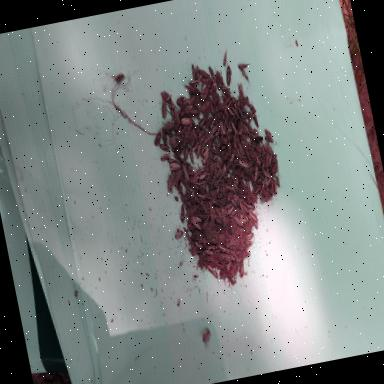pbw: (178, 201, 188, 223), (165, 172, 175, 194), (190, 214, 202, 231), (160, 100, 170, 120), (152, 130, 164, 146), (181, 162, 190, 183), (220, 49, 231, 66), (174, 90, 187, 104), (240, 66, 250, 84), (218, 242, 230, 255), (194, 144, 204, 159), (214, 72, 222, 90), (190, 62, 198, 80), (252, 110, 260, 128), (174, 108, 182, 126), (188, 146, 196, 164), (188, 79, 204, 88), (238, 260, 246, 278), (262, 142, 272, 156), (264, 128, 273, 143), (201, 154, 212, 166), (190, 141, 201, 153), (198, 143, 208, 156), (248, 209, 258, 222), (240, 94, 250, 107), (184, 226, 192, 242), (182, 145, 190, 161), (210, 204, 218, 220), (238, 142, 245, 160), (238, 158, 249, 169), (251, 142, 262, 153), (115, 72, 126, 83), (218, 135, 229, 146), (230, 121, 238, 136), (200, 86, 210, 98), (160, 142, 172, 152), (184, 83, 196, 93), (174, 230, 186, 240), (204, 248, 216, 258), (262, 168, 272, 180), (234, 216, 244, 228), (246, 100, 256, 112), (238, 62, 253, 70), (262, 190, 272, 202), (194, 63, 201, 80), (219, 119, 226, 136), (209, 65, 216, 81), (255, 152, 262, 168), (252, 166, 260, 180), (266, 142, 274, 156), (237, 82, 244, 98), (247, 110, 255, 124), (231, 132, 238, 148), (220, 162, 228, 176), (170, 162, 182, 171), (246, 191, 255, 203), (198, 116, 207, 128), (205, 187, 214, 199), (251, 216, 259, 229), (244, 178, 252, 191), (192, 191, 200, 204), (244, 125, 252, 138), (194, 238, 204, 248), (184, 104, 194, 114), (217, 70, 224, 84), (208, 82, 216, 94), (176, 125, 184, 137), (240, 138, 248, 150), (226, 261, 234, 273), (194, 168, 206, 176), (160, 154, 172, 162), (264, 152, 270, 168), (180, 116, 192, 124), (166, 156, 178, 164), (230, 248, 238, 260), (208, 166, 216, 178), (208, 205, 214, 221), (247, 121, 254, 134), (190, 175, 200, 184), (229, 198, 238, 208), (228, 152, 236, 163), (238, 198, 244, 212), (259, 180, 266, 192), (231, 146, 238, 158), (231, 102, 238, 114), (271, 164, 280, 173), (222, 92, 230, 102), (225, 184, 235, 192), (198, 190, 206, 200), (227, 106, 235, 116), (227, 206, 235, 216), (246, 232, 256, 240), (238, 126, 246, 136), (209, 152, 217, 162), (198, 68, 208, 76), (188, 94, 196, 104), (240, 101, 246, 114), (207, 243, 218, 250), (216, 111, 222, 123), (211, 146, 219, 155), (254, 186, 262, 195), (228, 140, 234, 152), (194, 94, 202, 103), (247, 202, 256, 210), (250, 148, 256, 160), (213, 186, 220, 196), (212, 177, 219, 187), (218, 101, 225, 111), (265, 178, 272, 188), (208, 138, 215, 148), (213, 179, 220, 189), (206, 117, 213, 127), (237, 120, 244, 130), (232, 180, 239, 190), (234, 174, 240, 185), (252, 130, 260, 138), (222, 101, 230, 109), (188, 168, 196, 176), (222, 84, 230, 92), (225, 203, 233, 211), (199, 134, 208, 141), (192, 128, 198, 138), (212, 85, 218, 95), (219, 156, 224, 168), (273, 182, 278, 194), (243, 110, 249, 120), (209, 178, 216, 186), (212, 200, 220, 207), (204, 111, 212, 118), (212, 125, 219, 133), (200, 173, 208, 180), (207, 130, 212, 141), (212, 114, 218, 123), (236, 100, 241, 110), (202, 76, 208, 84), (246, 150, 250, 162), (226, 128, 231, 137), (238, 107, 243, 116), (276, 176, 280, 187), (232, 98, 236, 109), (272, 154, 278, 161), (210, 101, 214, 111), (214, 103, 218, 113), (223, 108, 228, 116), (244, 215, 249, 222), (268, 158, 272, 166), (216, 141, 221, 147), (192, 108, 198, 113), (214, 164, 216, 174), (186, 165, 190, 169)
